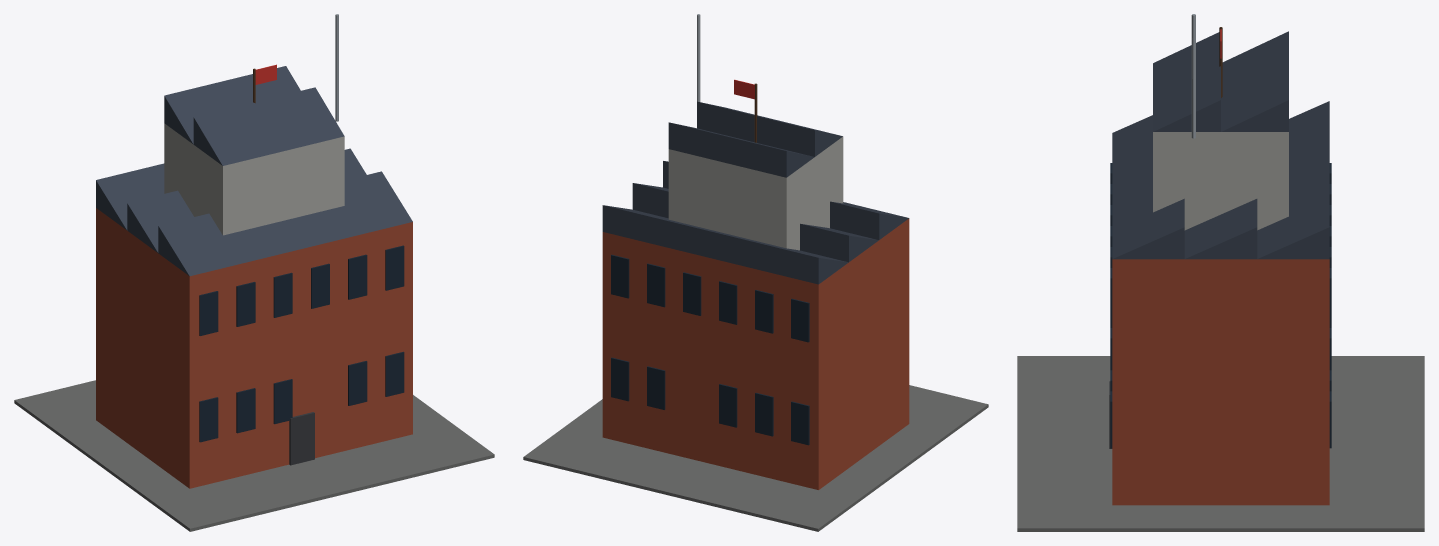
Rendered from bld_special_command_center_a05.glb.
3 renders of one model, left to right at view 1: azimuth 30°, elevation 25°; view 2: azimuth 150°, elevation 25°; view 3: azimuth 270°, elevation 25°, orthographic. The views are drawn at different scales.
Visible parts, largest first — view 1: body; view 2: body; view 3: body.
Boxes of the visible parts, x1=… form: body: x1=14, y1=14, x2=494, y2=531; body: x1=523, y1=14, x2=988, y2=531; body: x1=1017, y1=14, x2=1424, y2=531.
Size of what is drawn, in the model's own units: 15 by 19.15 by 15.
